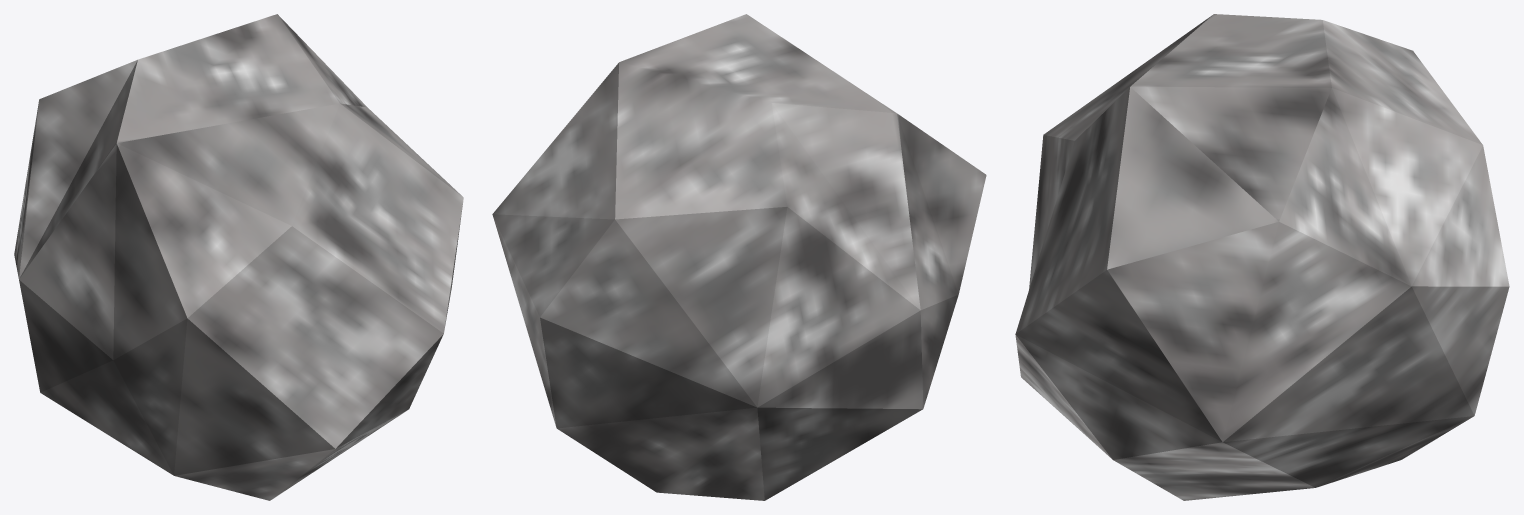
Rendered from giant_rock_v2.glb.
3 views of the same model, side by side, from view 1: azimuth 30°, elevation 25°; view 2: azimuth 150°, elevation 25°; view 3: azimuth 270°, elevation 25° (orthographic). The views are drawn at different scales.
Parts seen in each view (by area): view 1: Sphere.007; view 2: Sphere.007; view 3: Sphere.007.
Part boxes in pixels (box(x1,y1,x2,y2)): Sphere.007: box(14, 14, 463, 500); Sphere.007: box(492, 14, 986, 500); Sphere.007: box(1015, 14, 1509, 500).
Bounding box in the file's own units: 14.29 × 14.31 × 14.13.
1 material, 1 textured.
